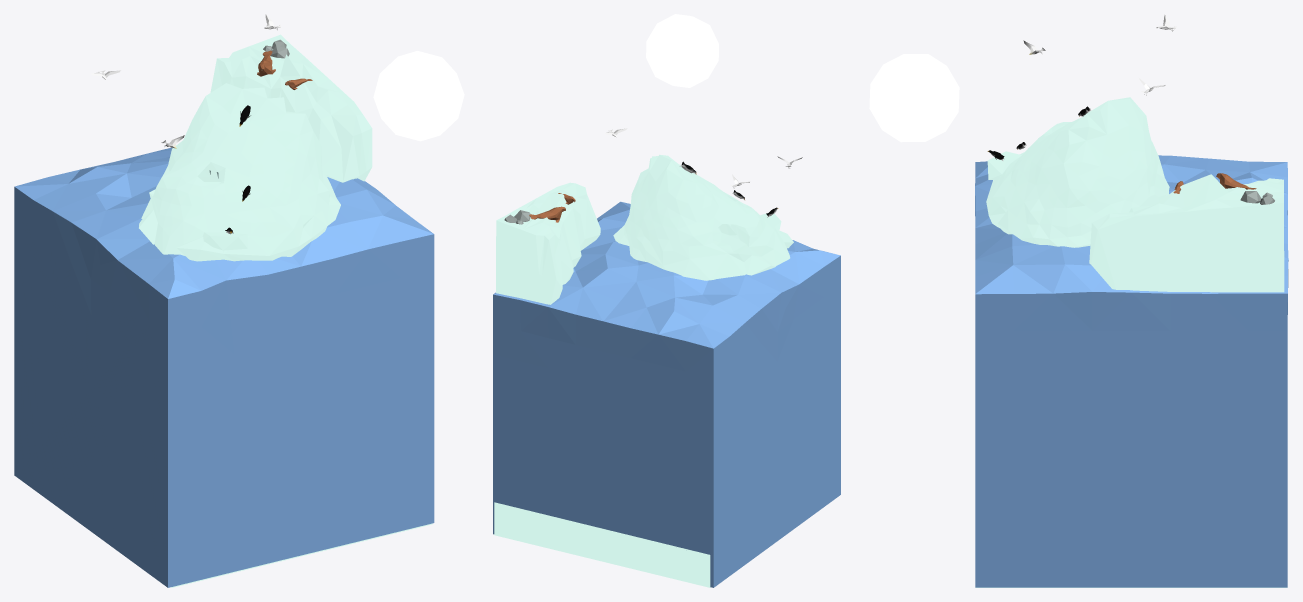
The model's file is fondo.fbx.
3 renders of one model, left to right at view 1: azimuth 30°, elevation 25°; view 2: azimuth 150°, elevation 25°; view 3: azimuth 270°, elevation 25°, orthographic. The views are drawn at different scales.
Visible parts, largest first — view 1: Water, Iceberg, Cube.001, Moon, Icosphere.005; view 2: Water, Iceberg, Cube.001, IceFloor, Moon; view 3: Water, Cube.001, Iceberg, Moon.
Boxes of the visible parts, box(x1,y1,x2,y2) form: Water: box(14, 147, 434, 587); Iceberg: box(139, 83, 340, 261); Cube.001: box(210, 34, 372, 182); Moon: box(373, 51, 464, 141); Icosphere.005: box(202, 232, 247, 250); Water: box(493, 201, 840, 587); Iceberg: box(613, 154, 793, 280); Cube.001: box(496, 182, 600, 304); IceFloor: box(494, 502, 710, 587); Moon: box(646, 14, 718, 87); Water: box(975, 155, 1288, 587); Cube.001: box(1089, 174, 1284, 292); Iceberg: box(986, 97, 1169, 247); Moon: box(869, 54, 959, 142).
Bounding box in the file's own units: 1805 × 3233 × 2414.
